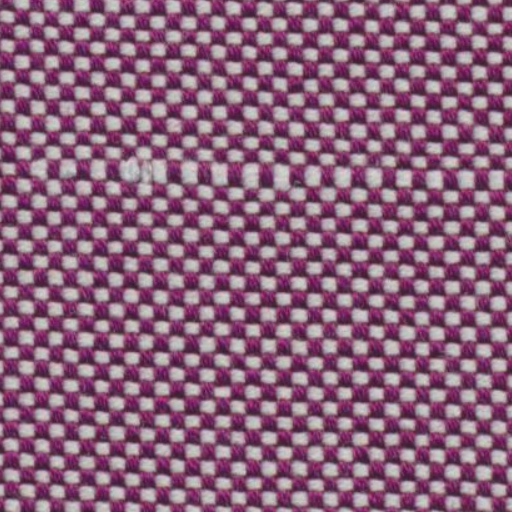DaiSha: (36, 143, 478, 206)
